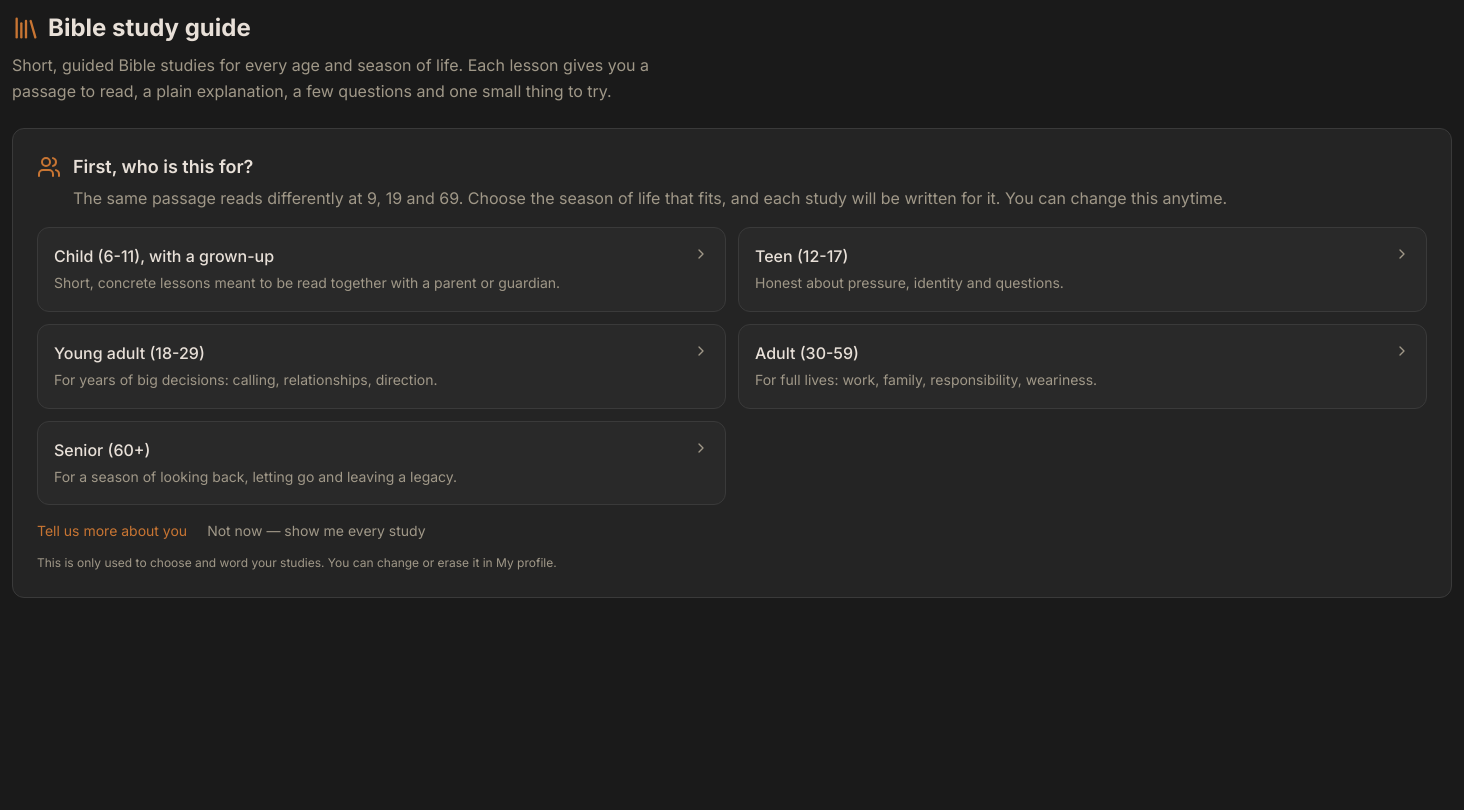
Test: StudyHubPage › lets a first-time visitor skip the question and see every study
Step 1. Click the button "Not now — show me every study" → (316,531), box x1=207 y1=521 x2=426 y2=541
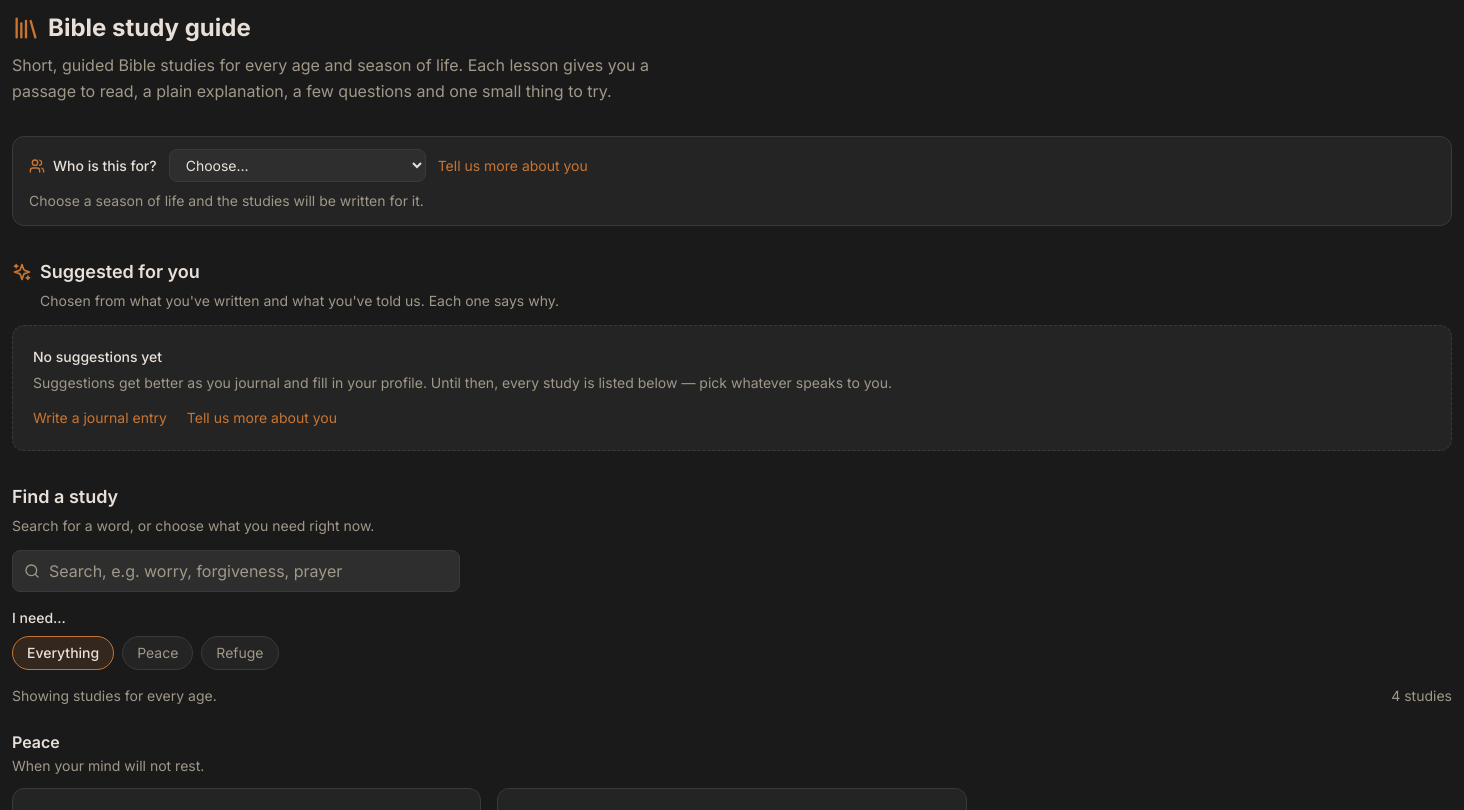
Now the text "Showing studies for every age." is shown, box x1=12 y1=686 x2=217 y2=706
